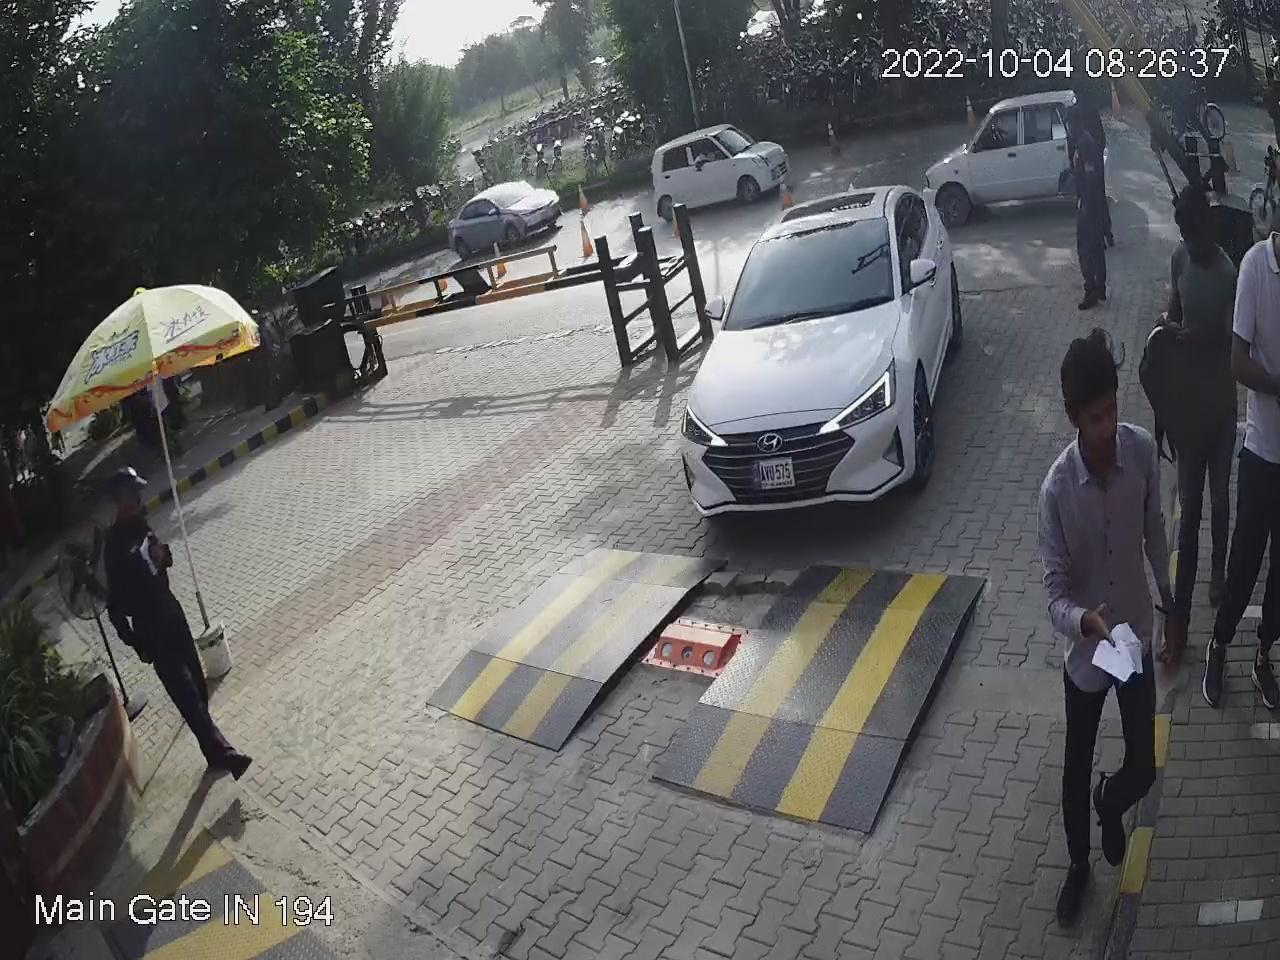windshield: (723, 215, 900, 333)
